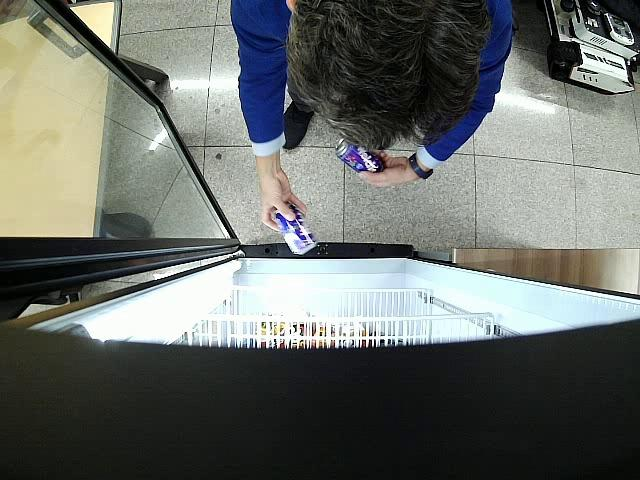00_hand: (256, 159, 307, 234), (358, 150, 412, 187)
14_welchsGrape: (273, 204, 319, 254), (336, 138, 383, 174)
